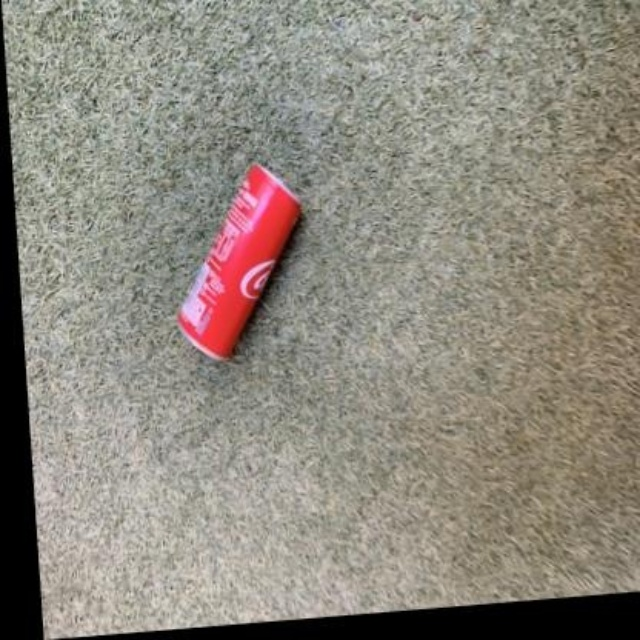trash: (177, 165, 300, 358)
